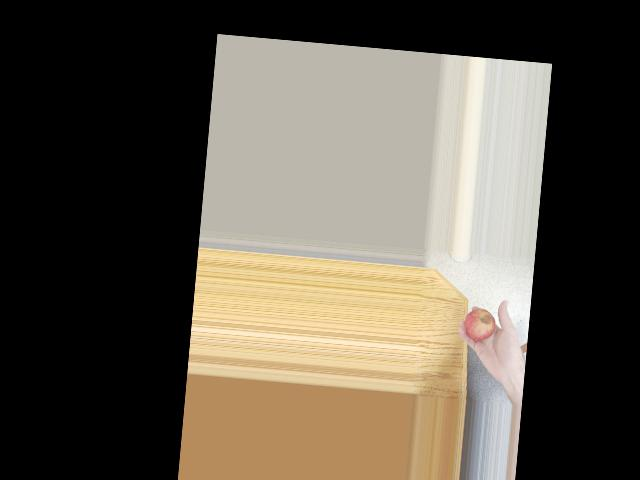apple: (463, 306, 499, 345)
